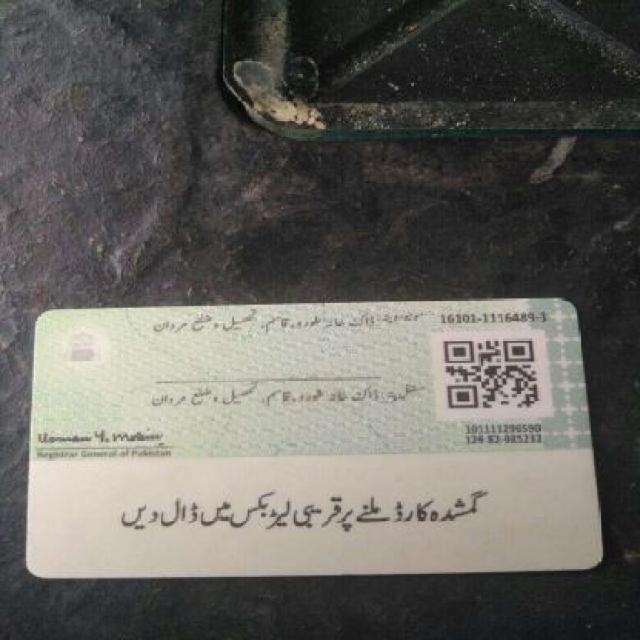Back: (23, 292, 606, 583)
